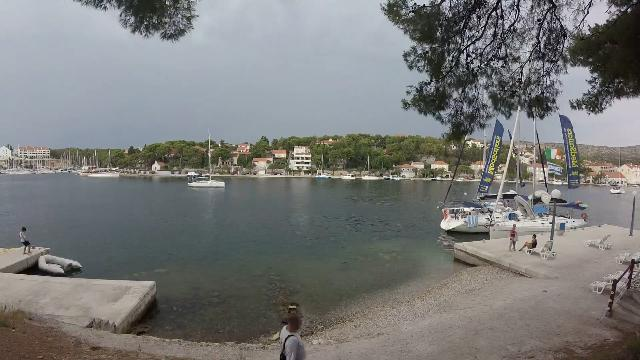Sailboat: (184, 174, 228, 190)
